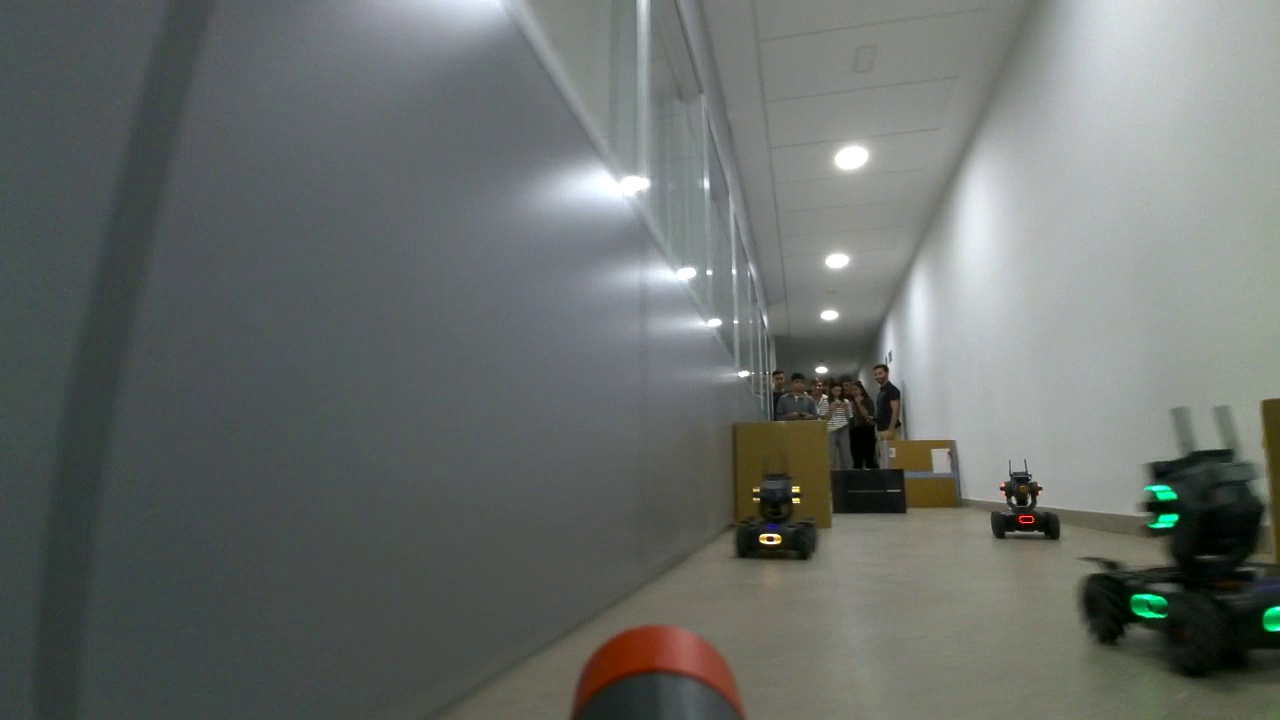robot: (1076, 451, 1279, 659), (729, 473, 815, 562), (991, 470, 1060, 542)
